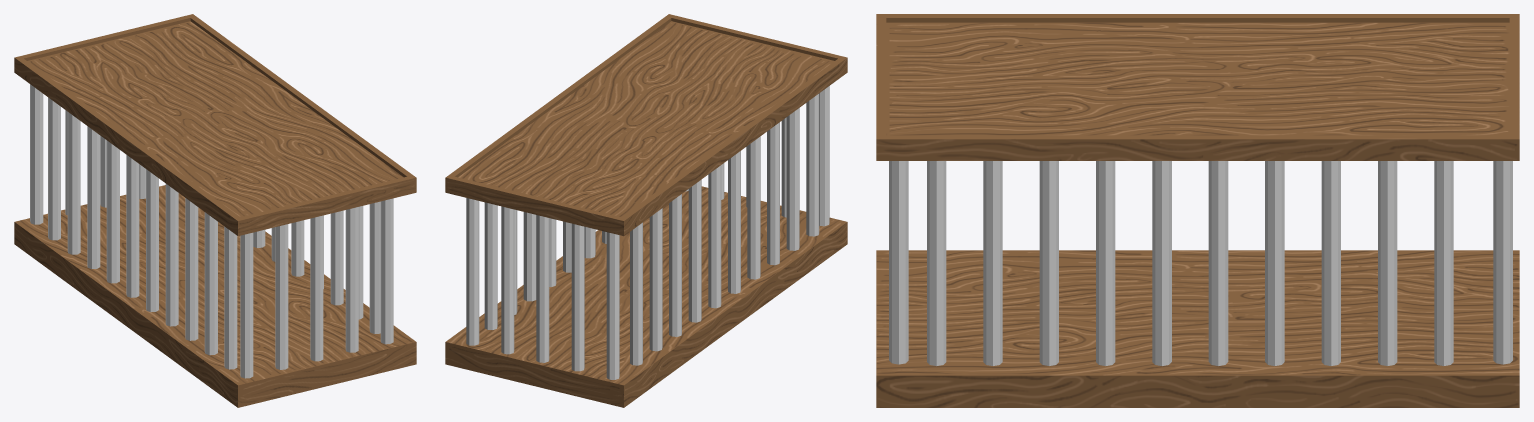
File: LowPolyCagefixed.fbx
The picture shows the model from 3 angles, left to right: view 1: azimuth 30°, elevation 25°; view 2: azimuth 150°, elevation 25°; view 3: azimuth 270°, elevation 25°; orthographic projection. The views are drawn at different scales.
Parts seen in each view (by area): view 1: CageOpen; view 2: CageOpen; view 3: CageOpen.
Boxes of the visible parts, left/top/right/bottom form: CageOpen: left=14, top=14, right=416, bottom=407; CageOpen: left=445, top=14, right=847, bottom=407; CageOpen: left=876, top=14, right=1519, bottom=407.
Size of the model in its own units: 200 by 200 by 434.
